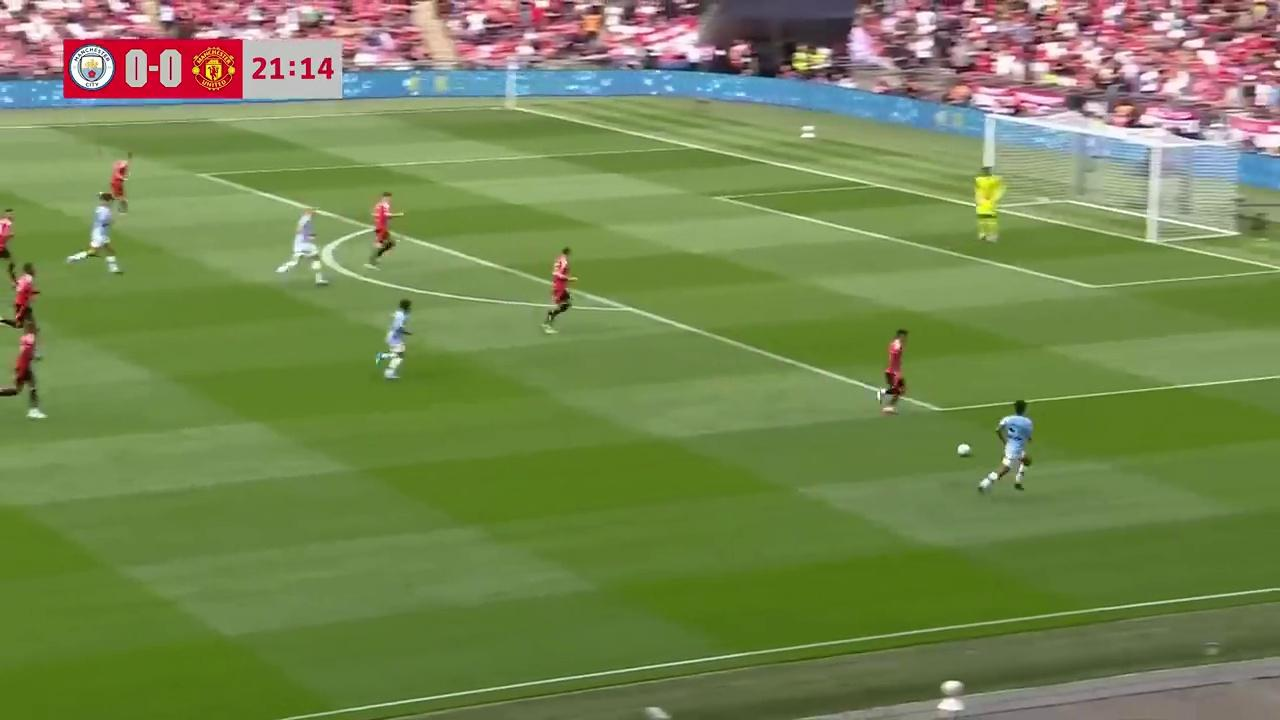ball: (955, 440, 972, 456)
player: (977, 401, 1033, 506), (0, 322, 46, 420), (68, 193, 123, 274), (276, 207, 330, 286), (375, 298, 414, 380), (541, 248, 577, 333), (879, 328, 908, 415), (366, 192, 398, 265), (974, 169, 1003, 243), (9, 263, 40, 329), (105, 154, 131, 215), (0, 207, 15, 282)
